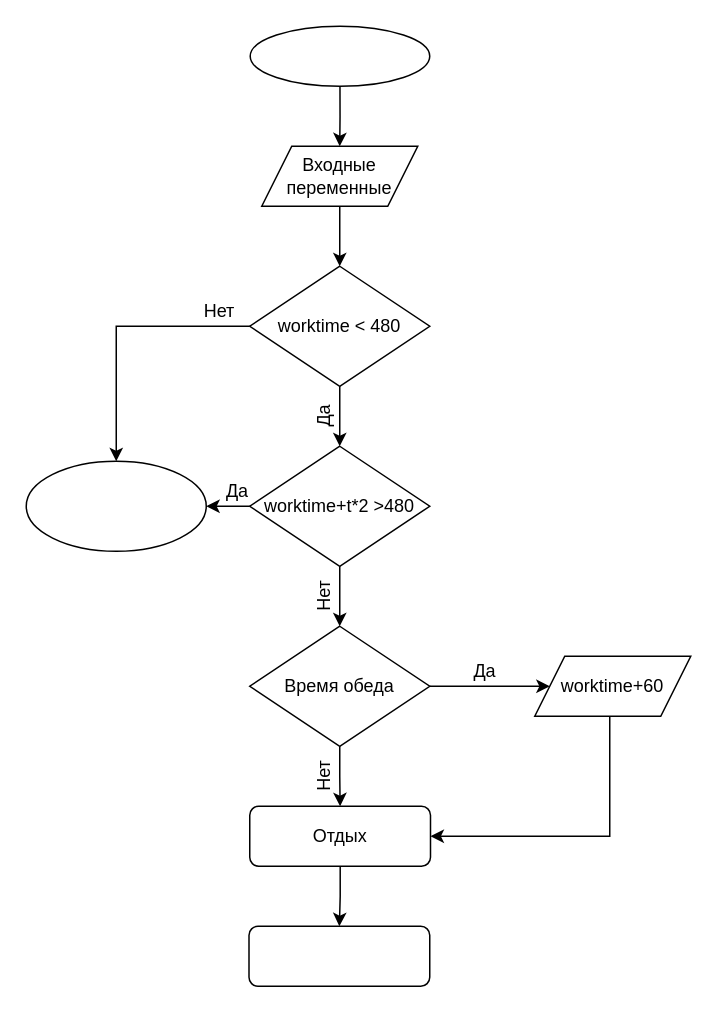
This 717x1013 diagram has some shape labels left out. Each missing label, with the centre of its shape:
"Движение на остановку Б" belongs at (339,955).
"Конец работы. Возвращение в автопарк" belongs at (115,505).
"Прибытие на остановку А" belongs at (339,55).
